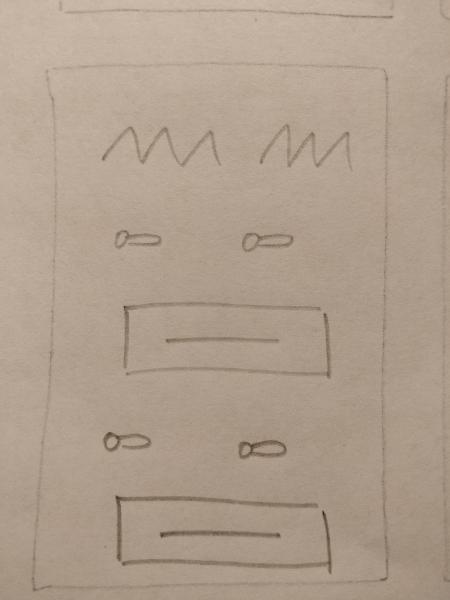button: (104, 292, 344, 392), (99, 488, 343, 580)
switch: (227, 217, 299, 264), (227, 429, 295, 471), (92, 419, 158, 457), (106, 222, 174, 254)
text: (96, 112, 222, 180), (252, 116, 358, 180)
